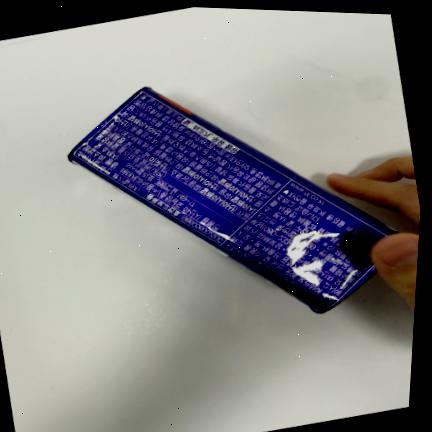cracker_ace: (68, 87, 395, 313)
